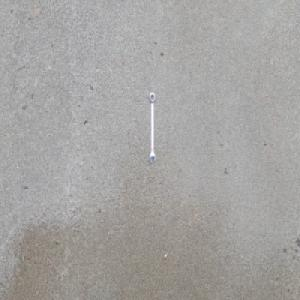Wrench: (149, 91, 156, 164)
